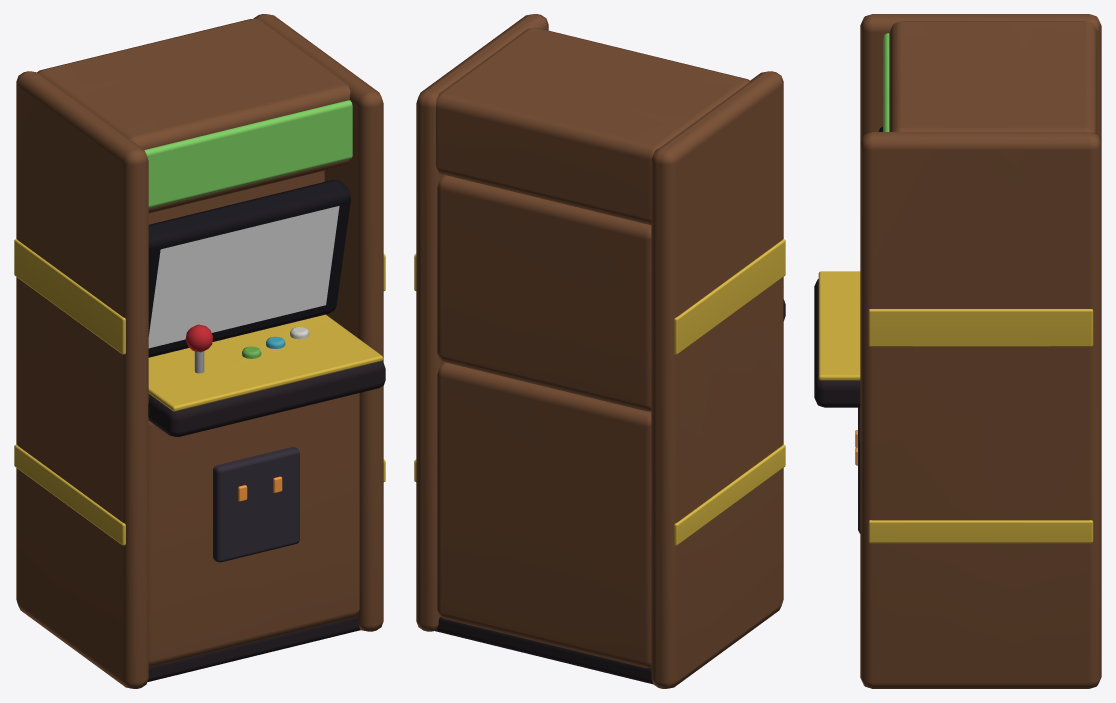
File: furn_cab_garden.glb
3 views of the same model, side by side, from view 1: azimuth 30°, elevation 25°; view 2: azimuth 150°, elevation 25°; view 3: azimuth 270°, elevation 25° (orthographic). The views are drawn at different scales.
Parts seen in each view (by area): view 1: furn_cab_garden_main, furn_cab_garden_screen, furn_cab_garden_glow; view 2: furn_cab_garden_main; view 3: furn_cab_garden_main, furn_cab_garden_glow.
Boxes of the visible parts, x1,y1,x2,y2 form: furn_cab_garden_main: [14, 14, 385, 688]; furn_cab_garden_screen: [148, 206, 339, 348]; furn_cab_garden_glow: [144, 100, 352, 501]; furn_cab_garden_main: [414, 14, 785, 688]; furn_cab_garden_main: [814, 14, 1101, 688]; furn_cab_garden_glow: [855, 33, 889, 465].
Size of the model in its own units: 0.752 by 1.47 by 0.69.
